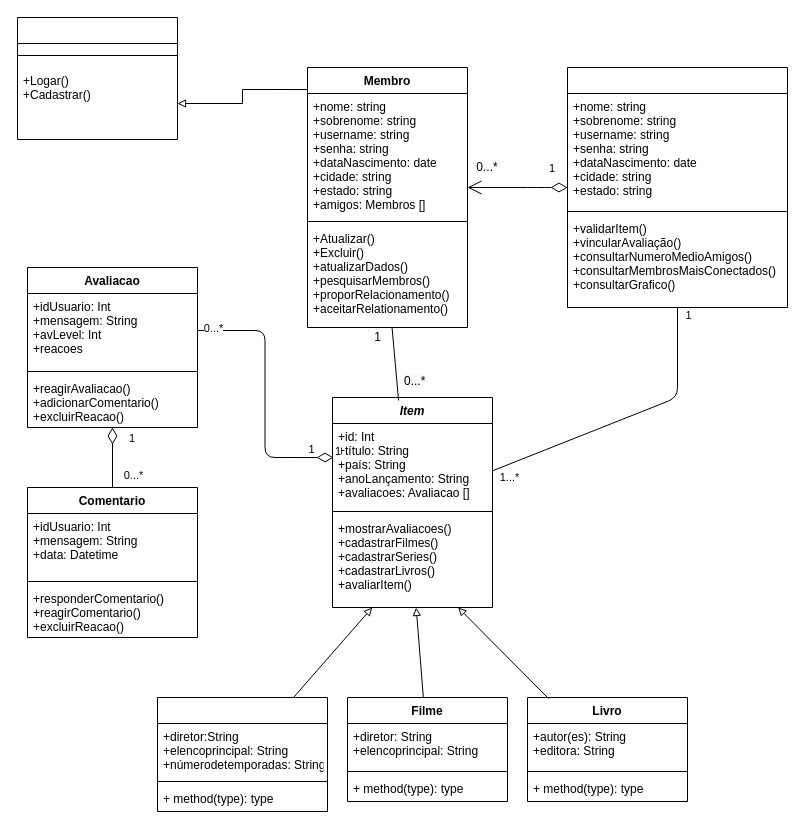
Image size: 805x832. Some labels were removed from this diagram. The box of each missing label's shape, as (x1, y1, x2, y2) in pixels:
Administrador: (566, 66, 788, 308)
Série: (156, 696, 328, 812)
Usuário: (16, 16, 178, 140)
